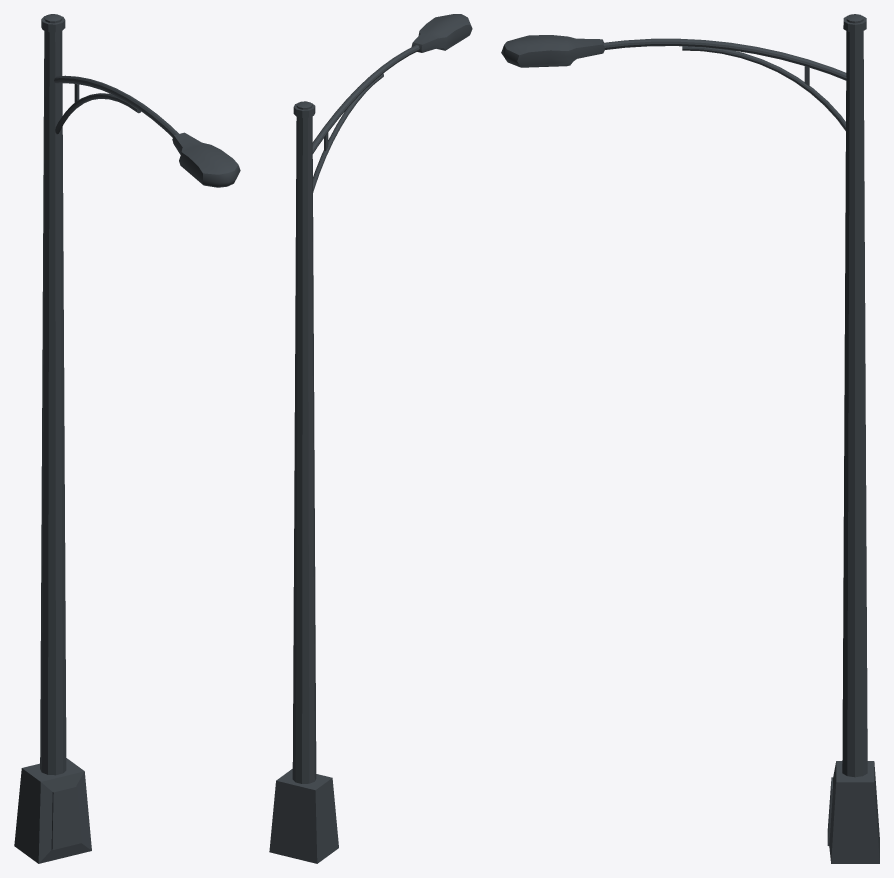
The model's file is Lampara2.obj.
The picture shows the model from 3 angles, left to right: view 1: azimuth 30°, elevation 25°; view 2: azimuth 150°, elevation 25°; view 3: azimuth 270°, elevation 25°; orthographic projection. The views are drawn at different scales.
Visible parts, largest first — view 1: Poste, Base; view 2: Poste, Base; view 3: Poste, Base.
Boxes of the visible parts, x1,y1,x2,y2 form: Poste: (40,14,240,775); Base: (14,758,91,863); Poste: (292,14,472,783); Base: (269,769,338,863); Poste: (501,14,867,777); Base: (827,761,879,863).
Bounding box in the file's own units: 2.25 × 33.58 × 13.81.
